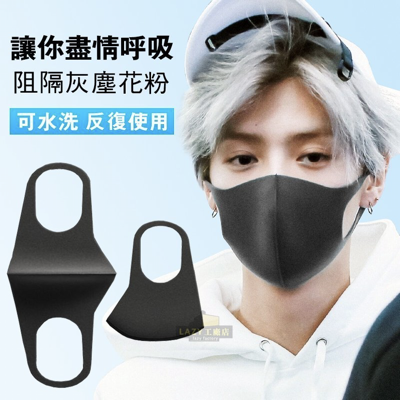with_mask: (207, 122, 361, 291)
